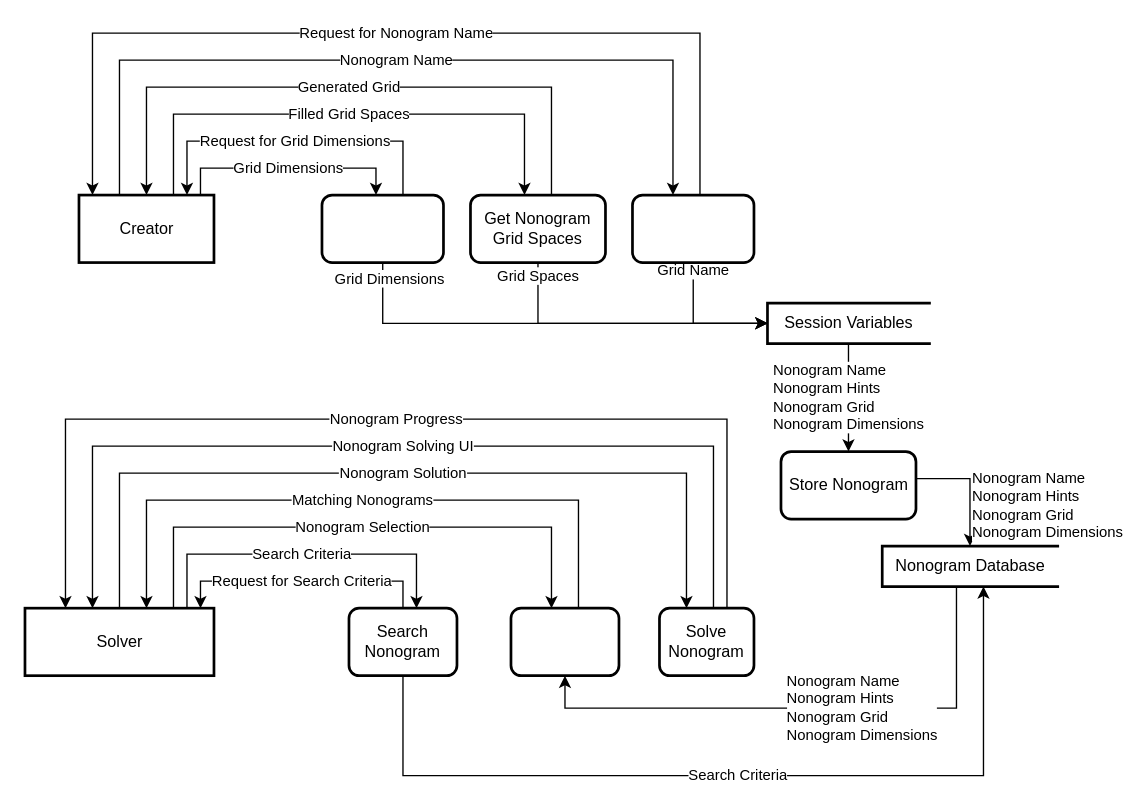
Some shapes in this 1146 by 810 pixel diagram are drawn without their labels. The shapes that lost their labels are listed below. From the top down, each one's box as (x1, y1, x2, y2) in pixels, then its label:
(320, 193, 444, 263): Get Nonogram Dimensions
(630, 193, 755, 263): Get Nonogram Name
(509, 606, 620, 676): Select Nonogram
